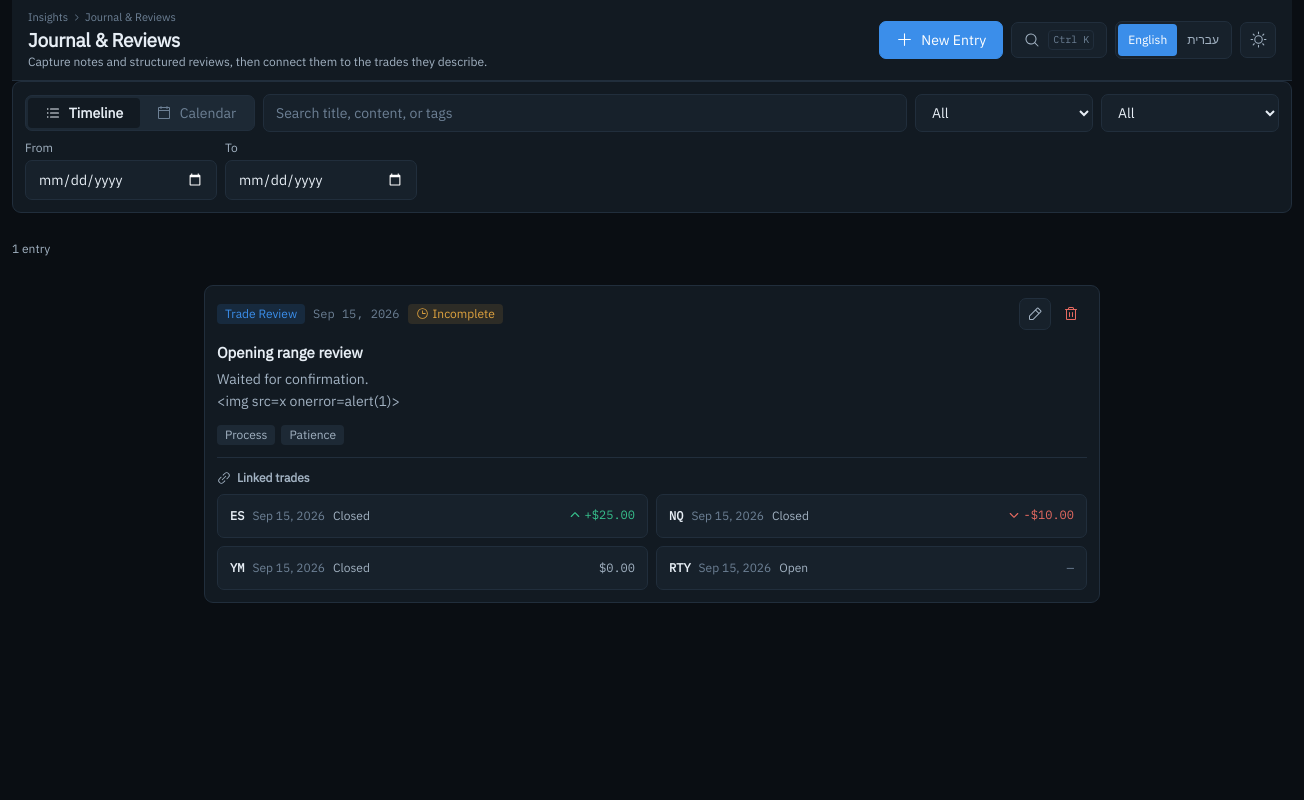
Test case: Journal timeline and filters › rejects reversed date ranges without issuing a reversed request
expect the heading "Opening range review" is shown: met, box [217,343,363,362]
Type "2026-08-04" into the date field named "From date". click: x=121, y=180
box: [25,160,217,200]
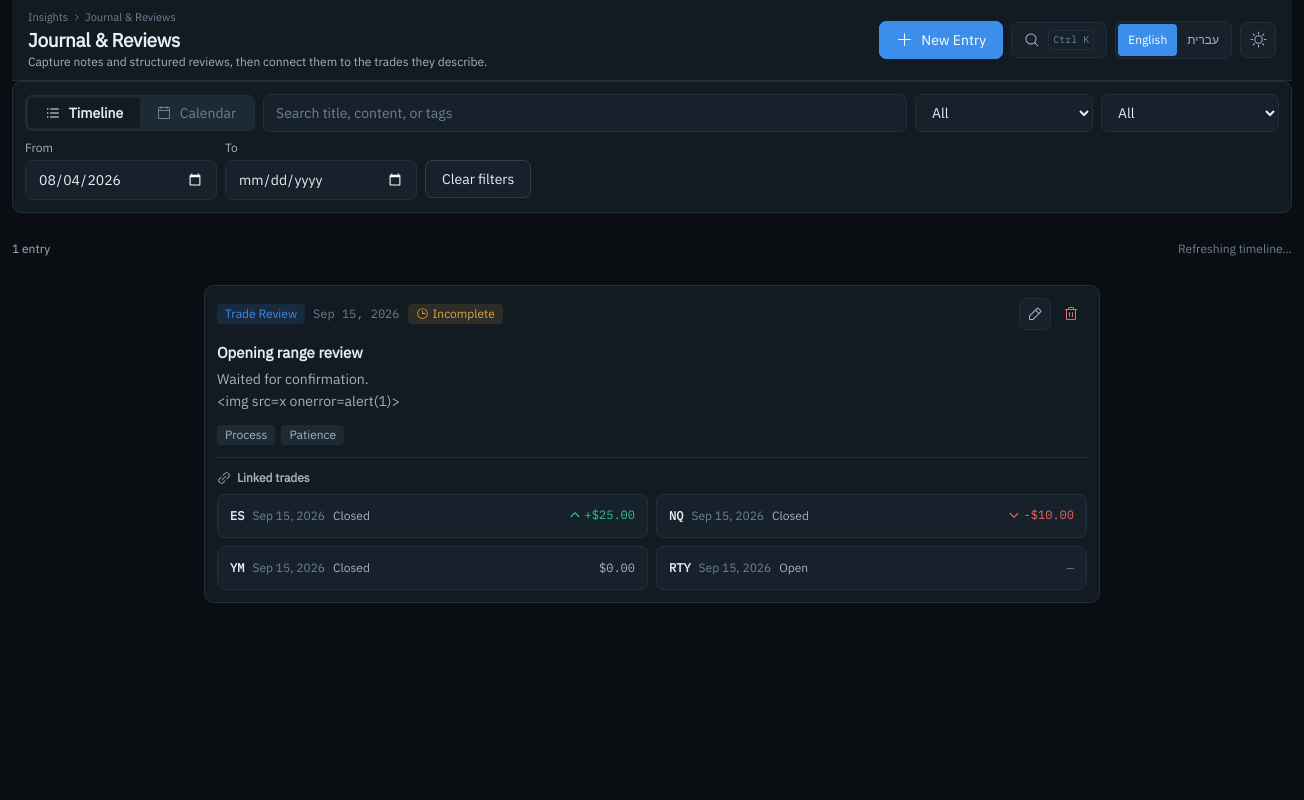
Type "2026-08-01" into the date field named "To date". click: x=321, y=180
box: [225,160,417,200]
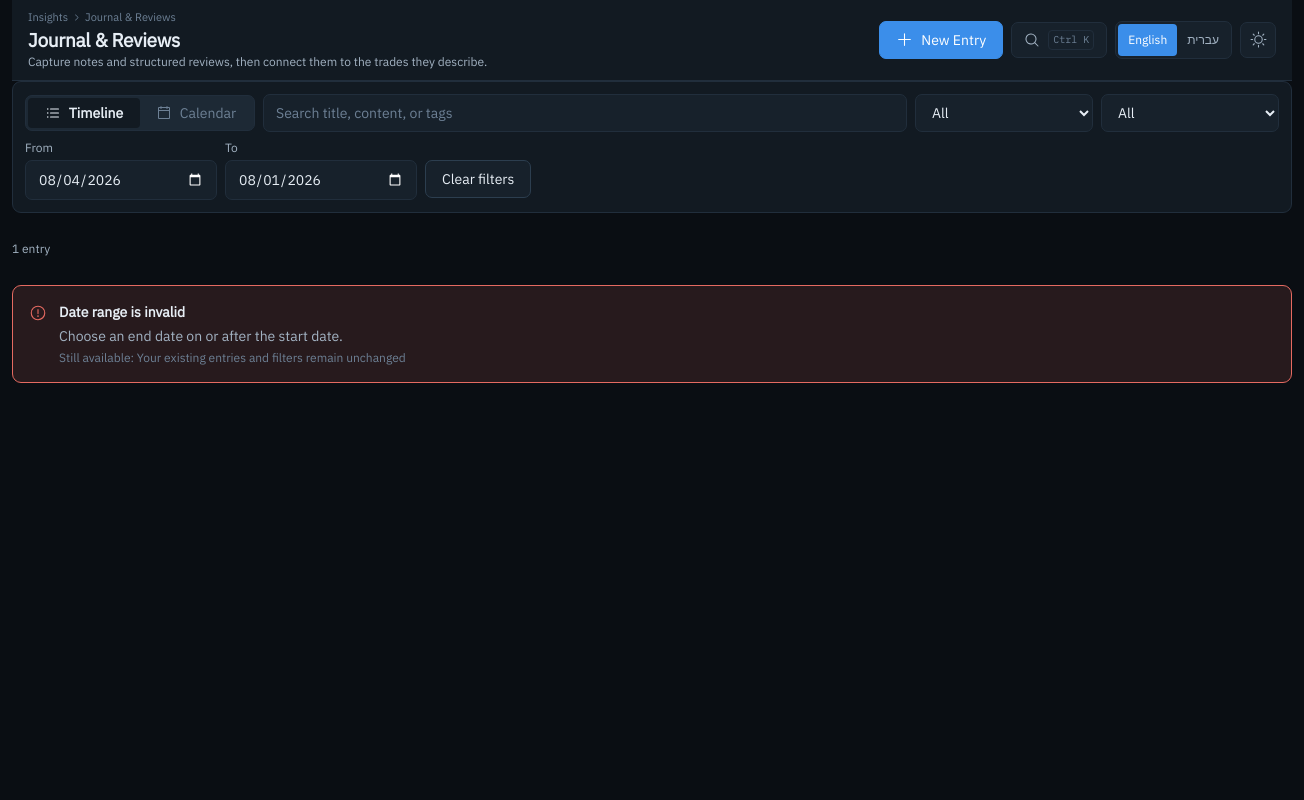
expect the message that starts with "Date range is invalid" is shown: met, box [59,303,185,321]
